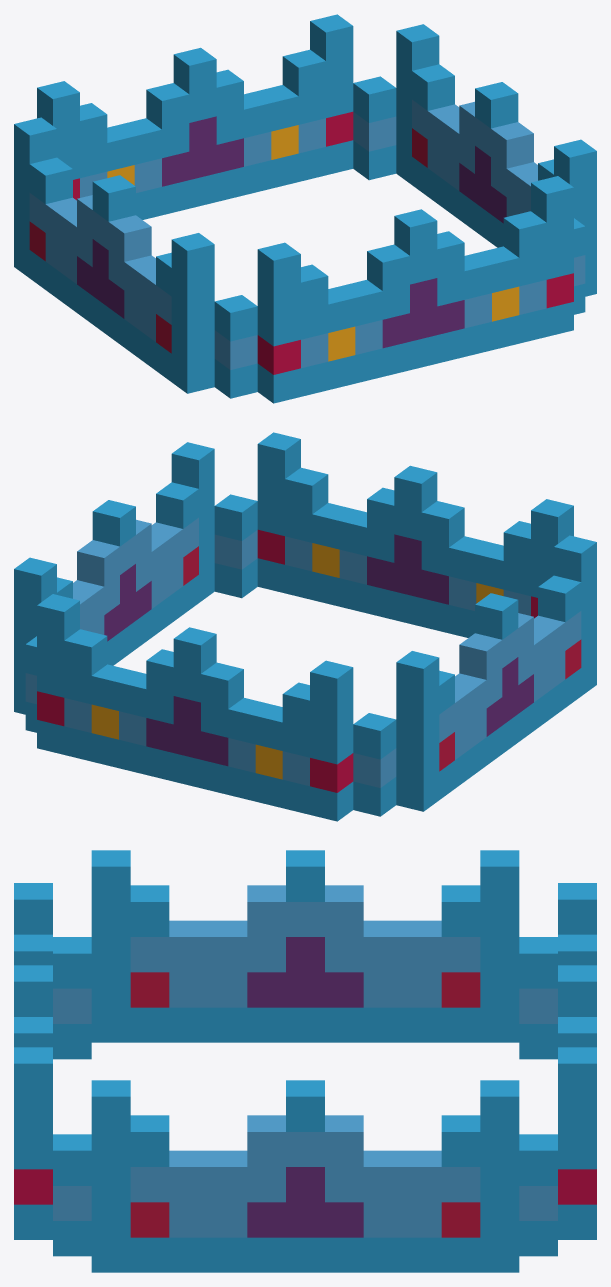
The model's file is Crown.obj.
3 renders of one model, top to bottom at view 1: azimuth 30°, elevation 25°; view 2: azimuth 150°, elevation 25°; view 3: azimuth 270°, elevation 25°, orthographic. The views are drawn at different scales.
Size of the model in its own units: 1.5 by 0.5 by 1.5.
1 material, 1 textured.
